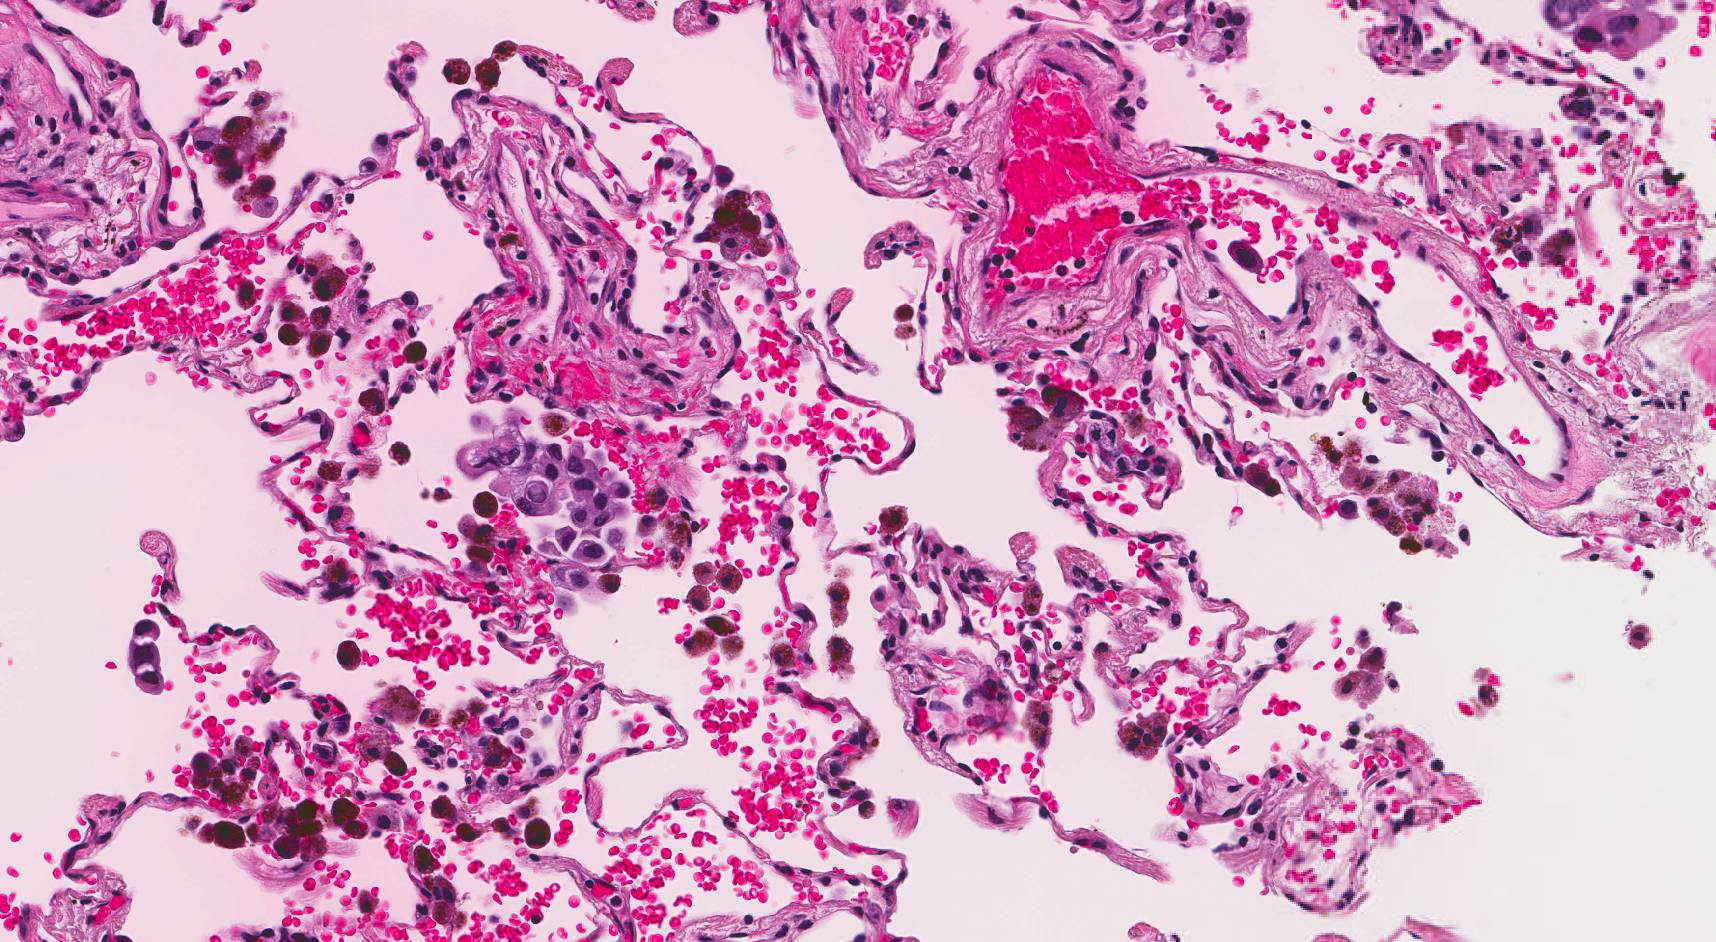stas: (455, 422, 632, 600), (1543, 2, 1676, 66), (128, 615, 166, 695)
